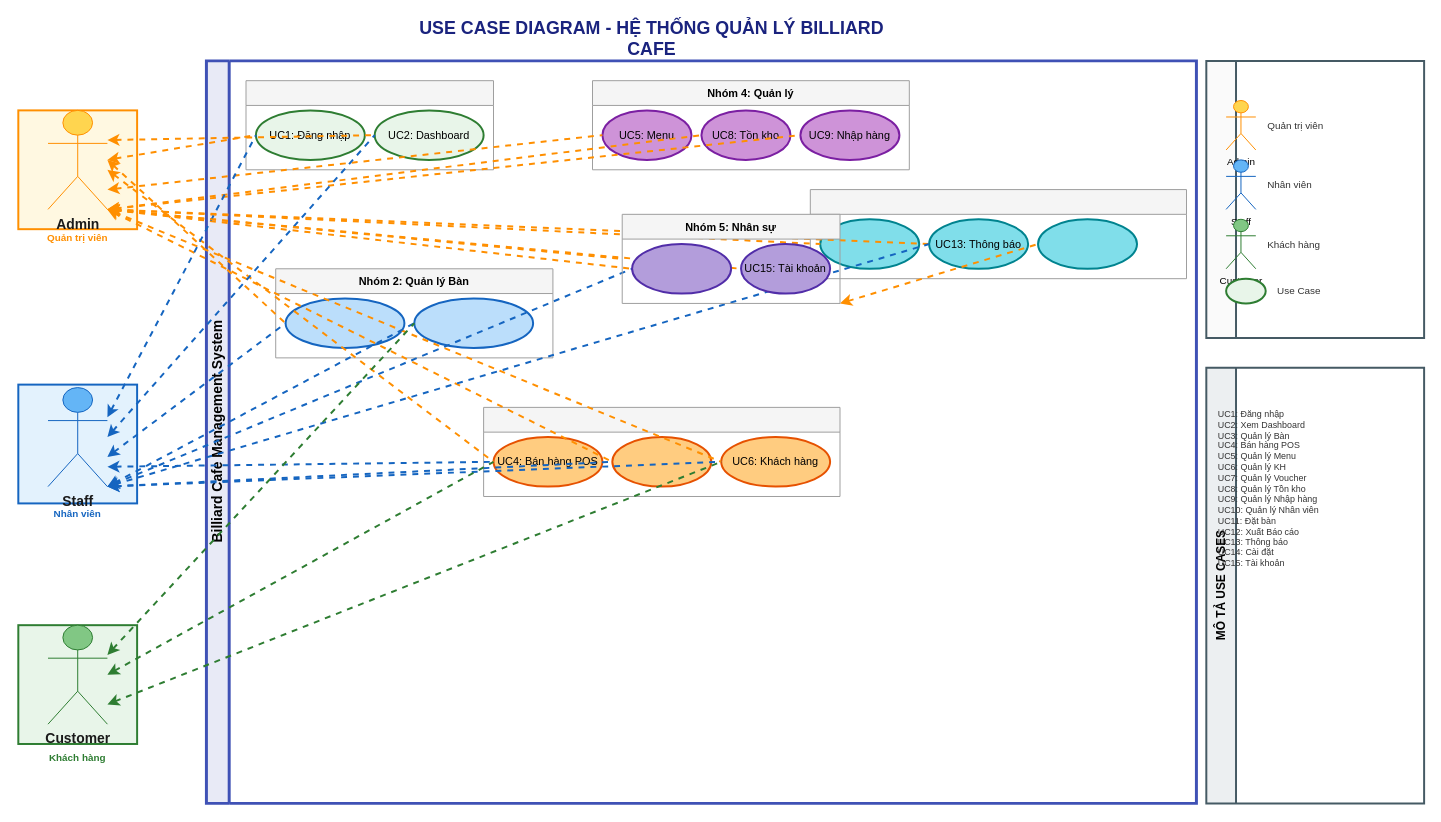
Image size: 1441x822. Some labels were removed from this diagram. The shapes that lost their labels are listed below. From the top down, each one's box as (x1, y1, x2, y2) in pixels, then its label:
(245, 80, 494, 170): Nhóm 1: Hệ thống
(1205, 59, 1425, 339): CHÚ THÍCH
(819, 218, 920, 269): UC12: Báo cáo
(809, 189, 1187, 279): Nhóm 6: Báo cáo & Hệ thống
(1037, 218, 1138, 269): UC14: Cài đặt
(631, 243, 732, 294): UC10: Nhân viên
(284, 297, 405, 348): UC3: Quản lý Bàn
(413, 297, 534, 348): UC11: Đặt bàn
(483, 406, 840, 496): Nhóm 3: Bán hàng
(611, 436, 712, 487): UC7: Voucher
